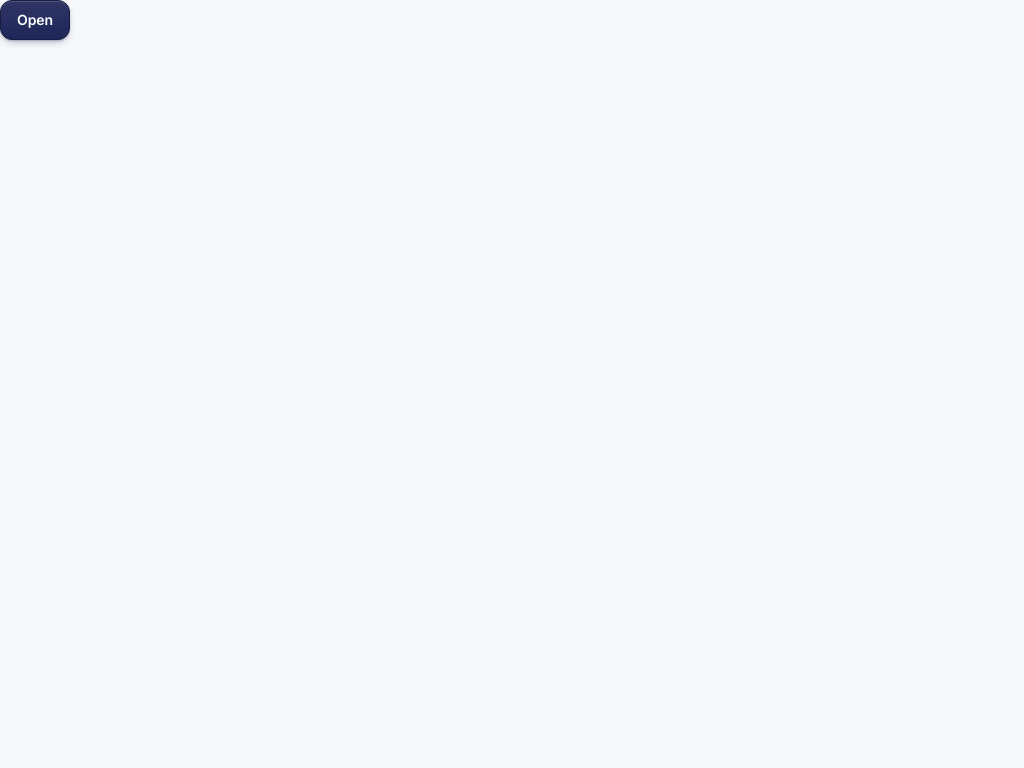
Scenario: Dialog › is a labelled modal that traps focus, closes on Escape and restores focus
Click the button "Open": coordinates (35, 20) [0,0,70,40]
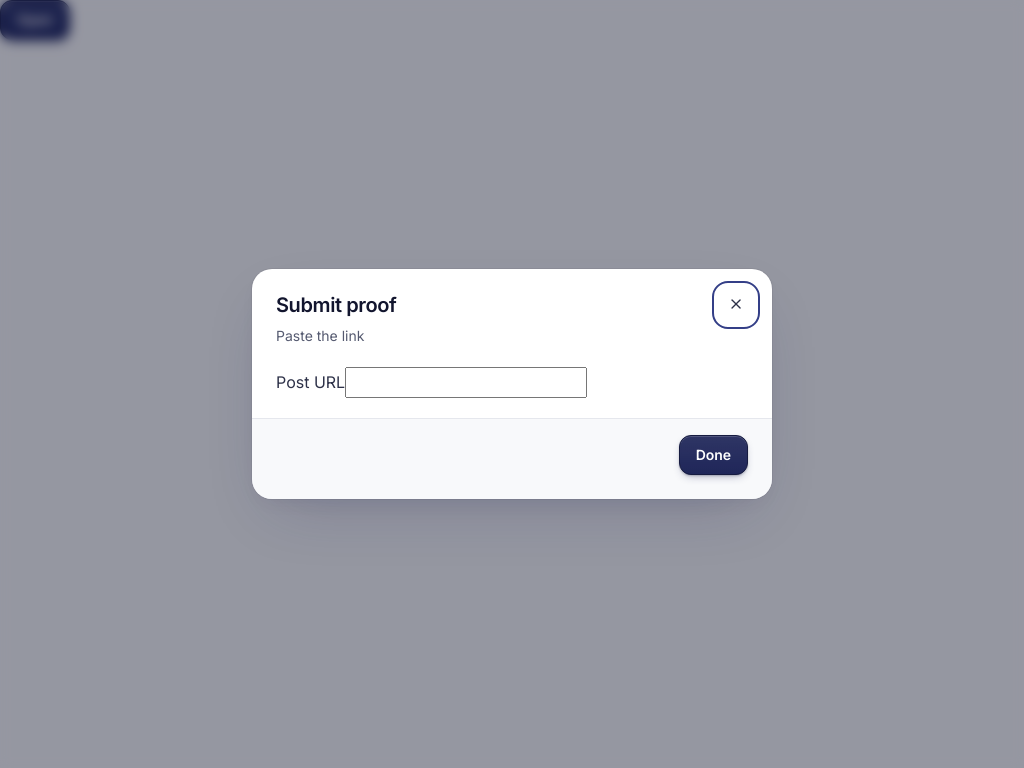
Press Tab
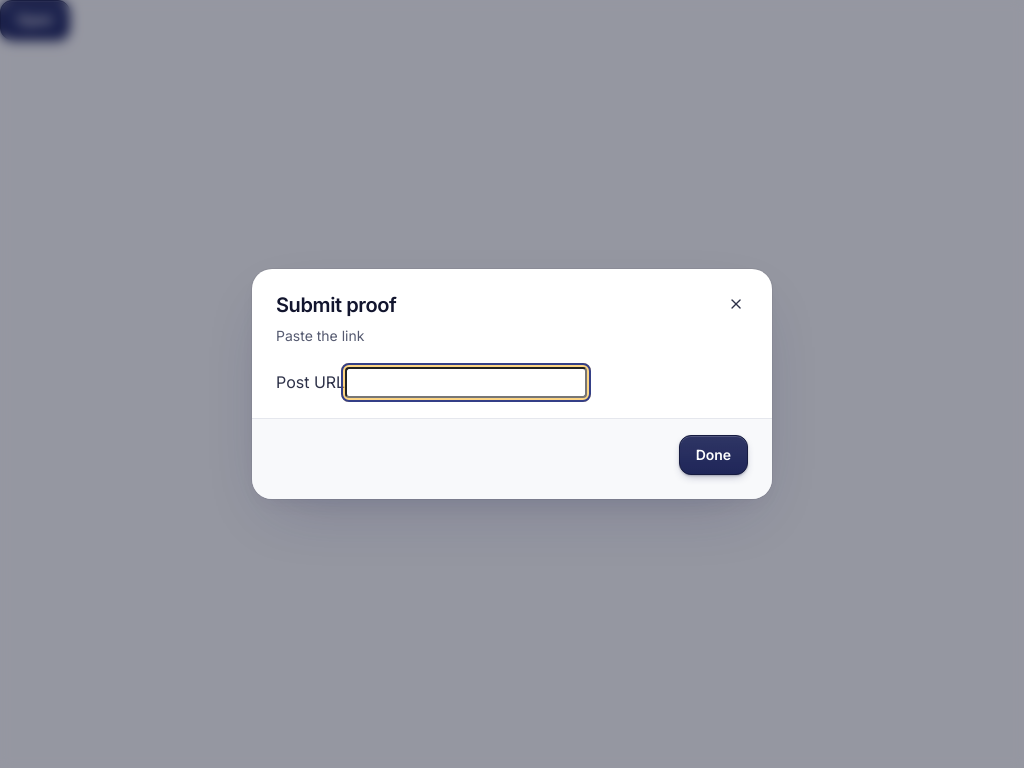
Press Tab
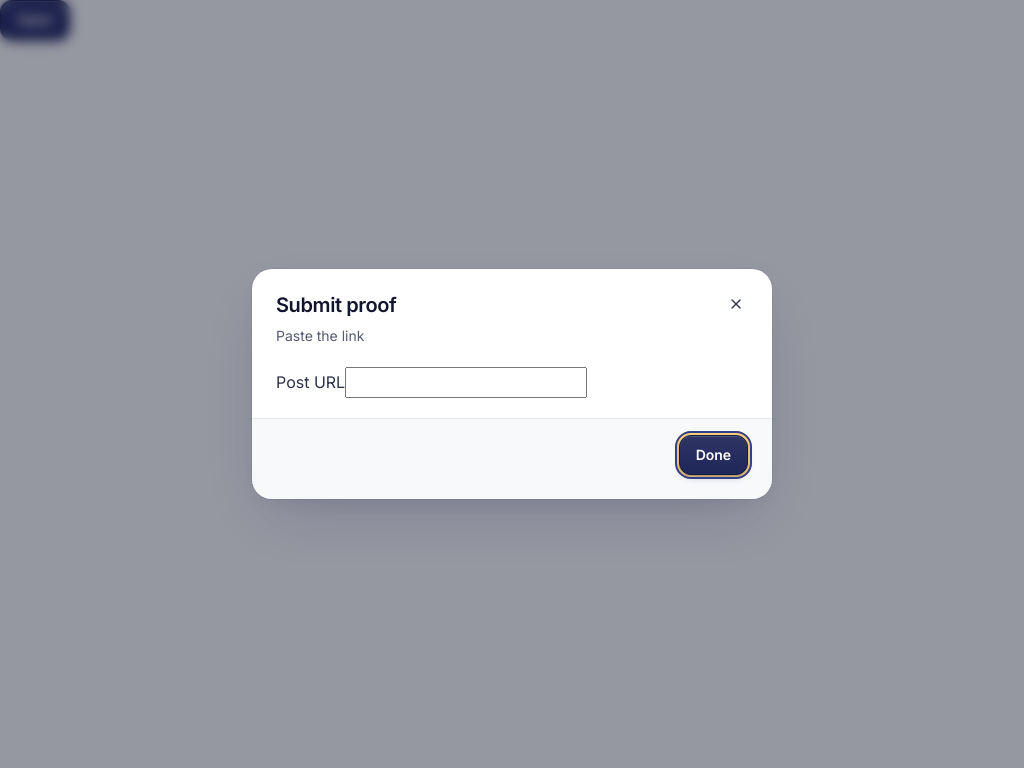
Press Tab
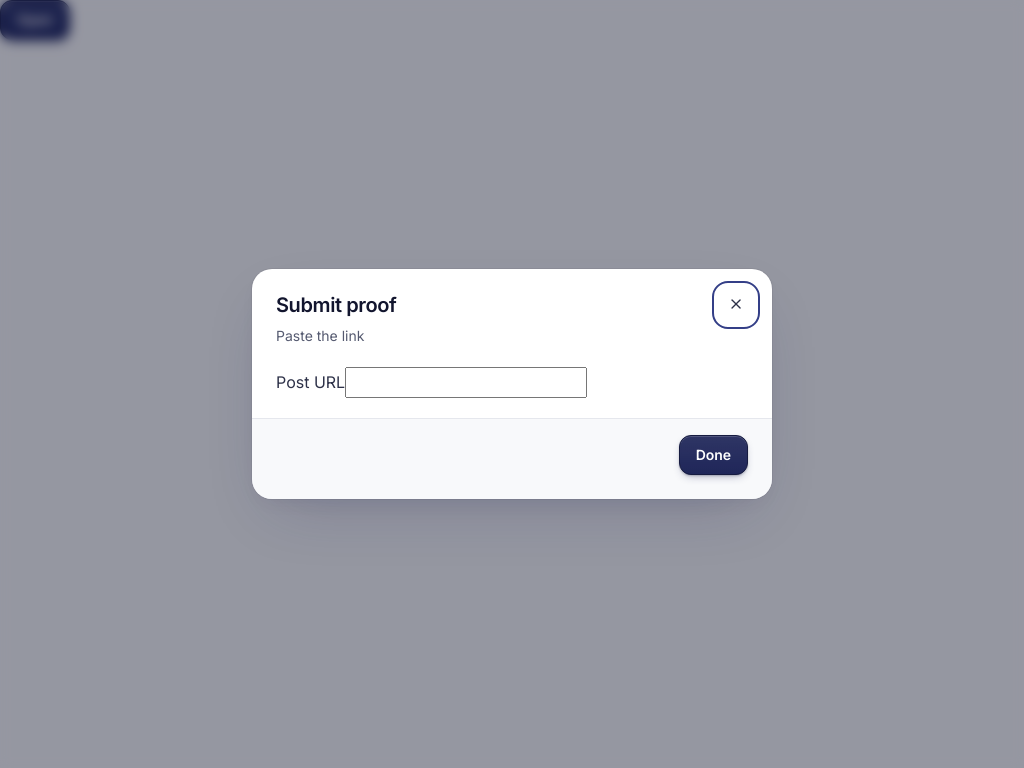
Press Shift+Tab
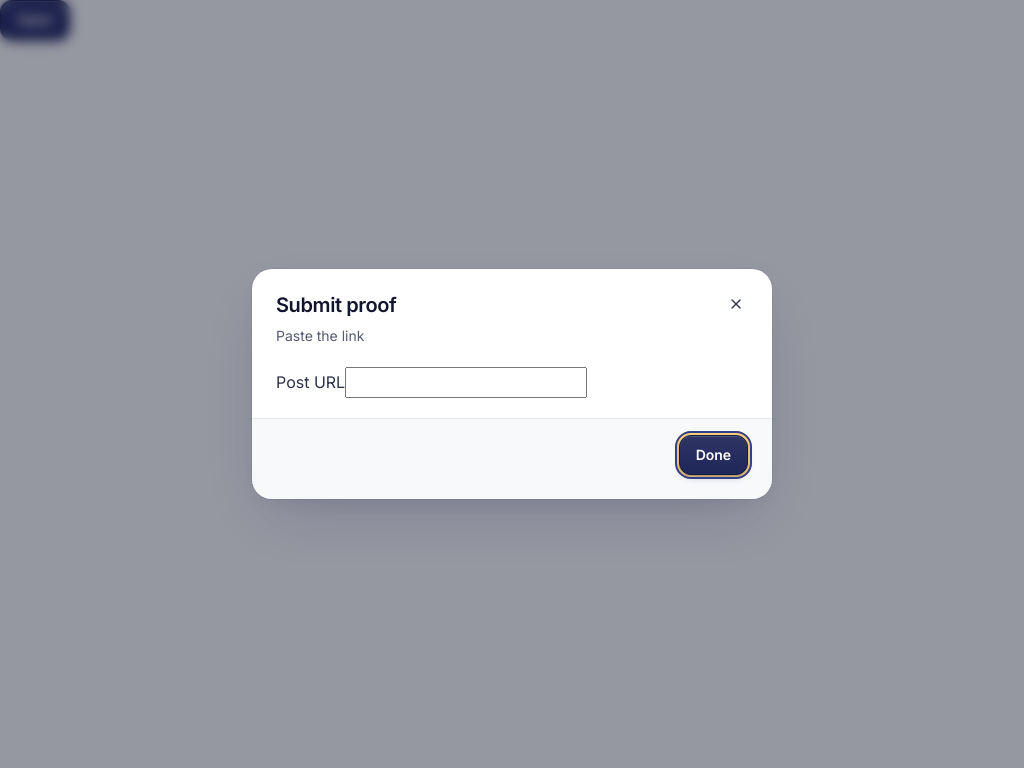
Press Escape
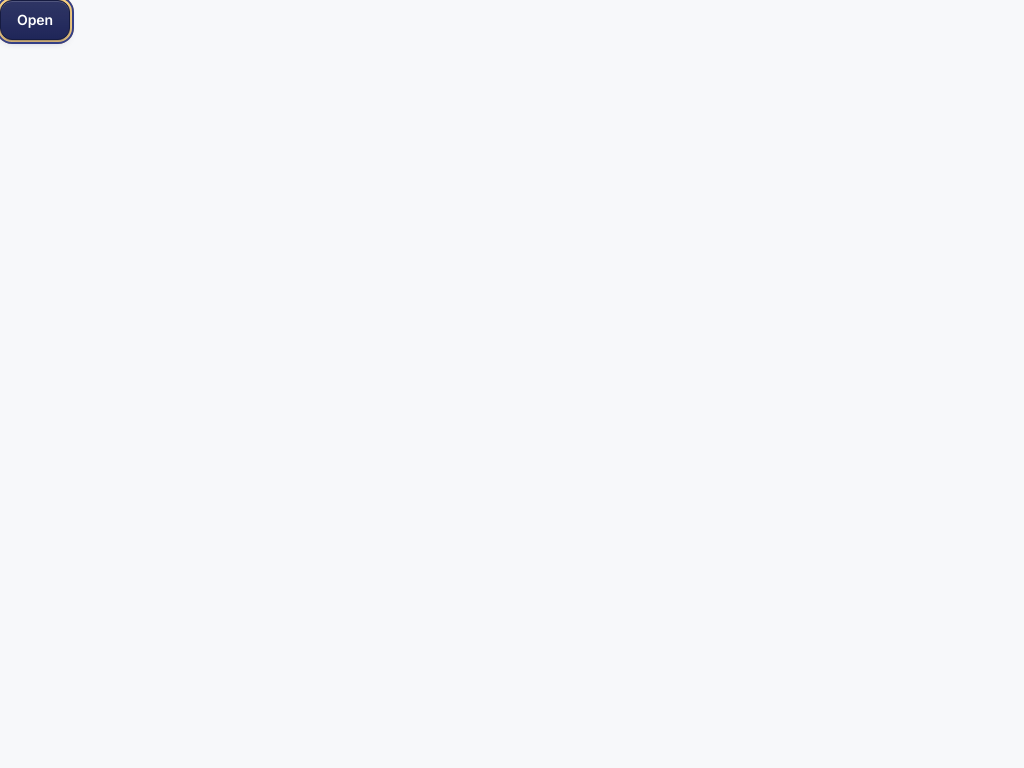
Expected: the dialog is gone
